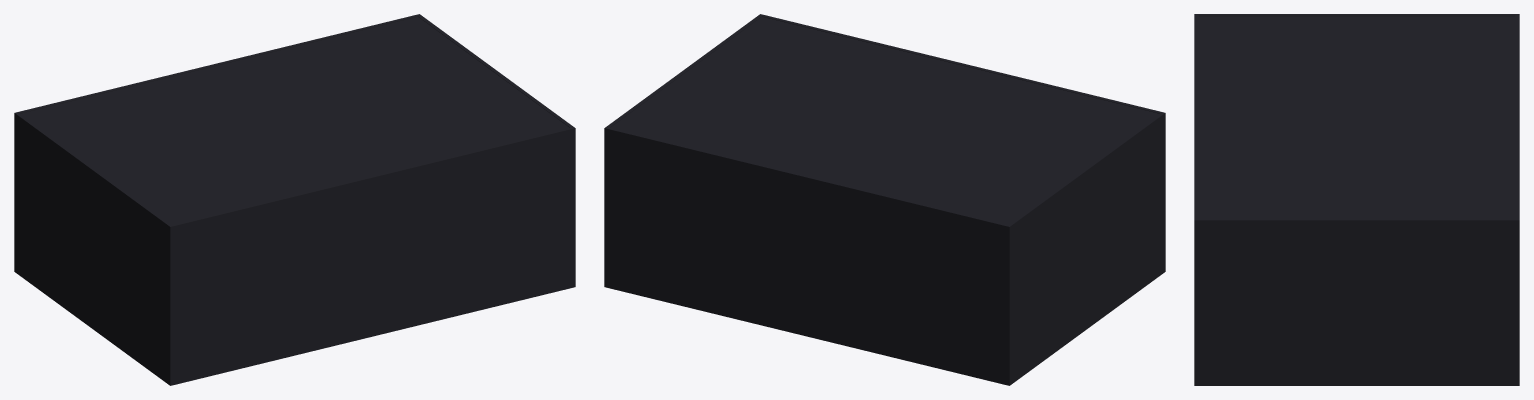
The model's file is ENERGIA_OPACO.fbx.
3 views of the same model, side by side, from view 1: azimuth 30°, elevation 25°; view 2: azimuth 150°, elevation 25°; view 3: azimuth 270°, elevation 25° (orthographic). The views are drawn at different scales.
Parts seen in each view (by area): view 1: En_Paredes, En_Techo; view 2: En_Paredes, En_Techo; view 3: En_Techo, En_Paredes.
Boxes of the visible parts, x1,y1,x2,y2 form: En_Paredes: (14, 14, 575, 385); En_Techo: (21, 17, 568, 224); En_Paredes: (604, 14, 1165, 385); En_Techo: (611, 17, 1158, 224); En_Techo: (1198, 16, 1515, 218); En_Paredes: (1194, 14, 1519, 385).
Size of the model in its own units: 1200 by 450 by 800.
9 materials, 9 textured.
